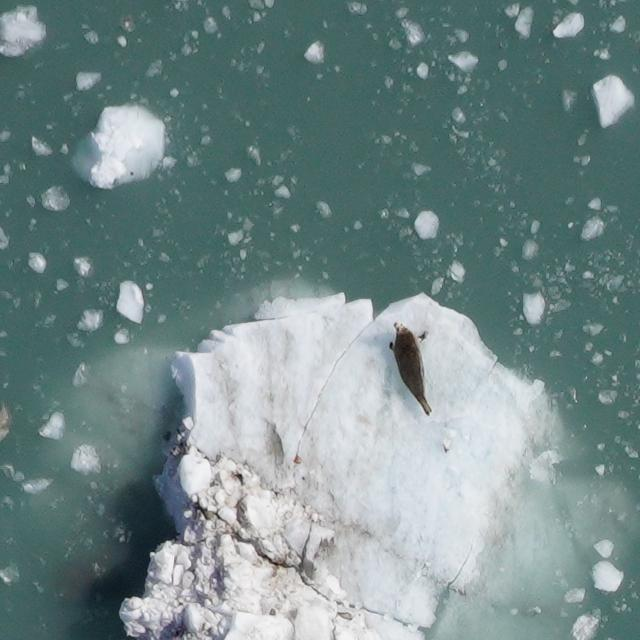seal: (383, 318, 436, 421)
